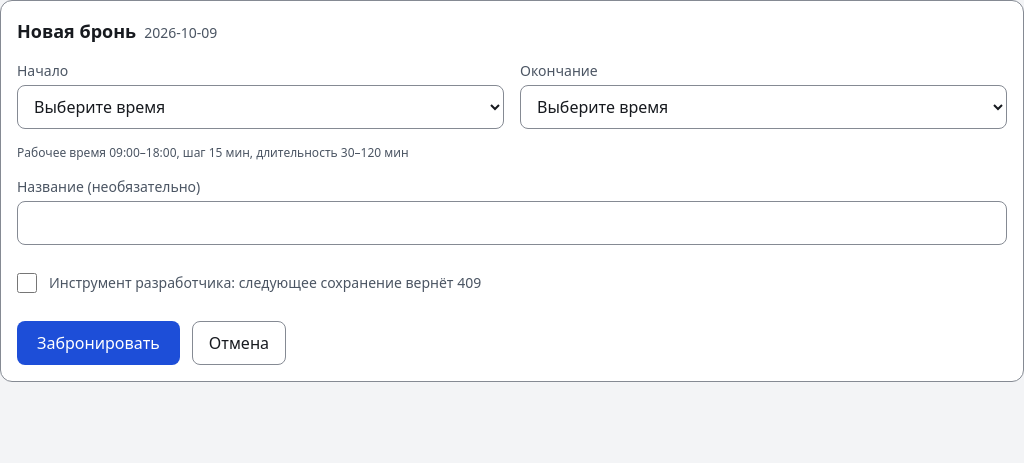
Test: BookingForm server errors › network error shows NETWORK banner and preserves input
The image size is (1024, 463).
Select "10:00" in the dropdown labelled "Начало" at coordinates (260, 107), box [17,85,504,129]
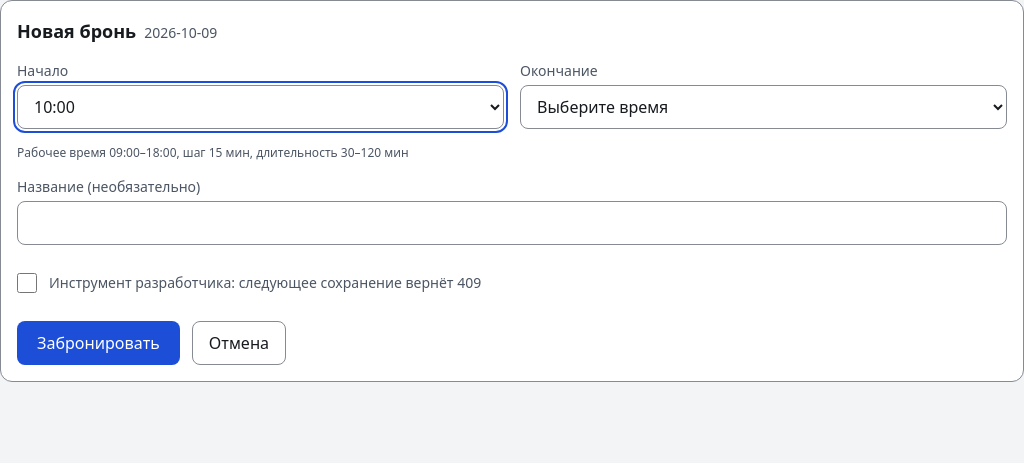
Select "11:00" in the dropdown labelled "Окончание" at coordinates (764, 107), box [520,85,1007,129]
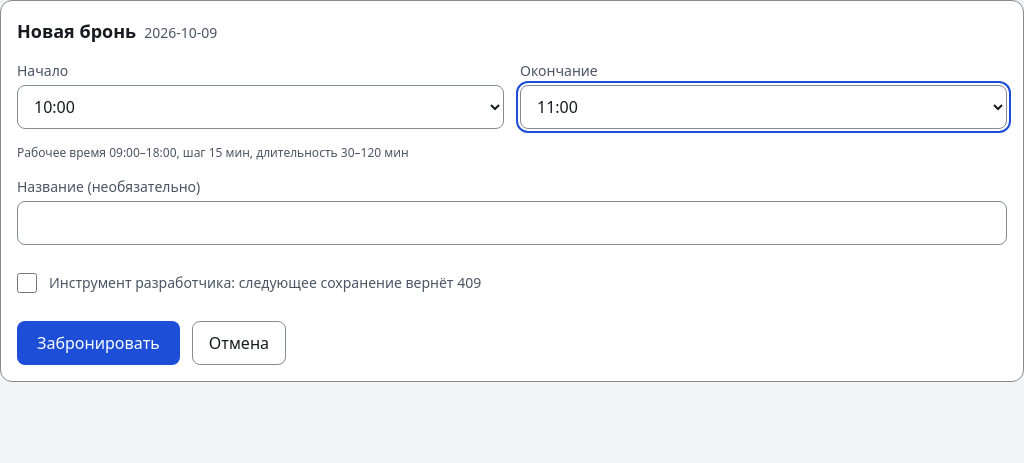
Type "Mine" into the field labelled "Название (необязательно)".
click(512, 223); type("Mine")  # box [17,201,1007,245]
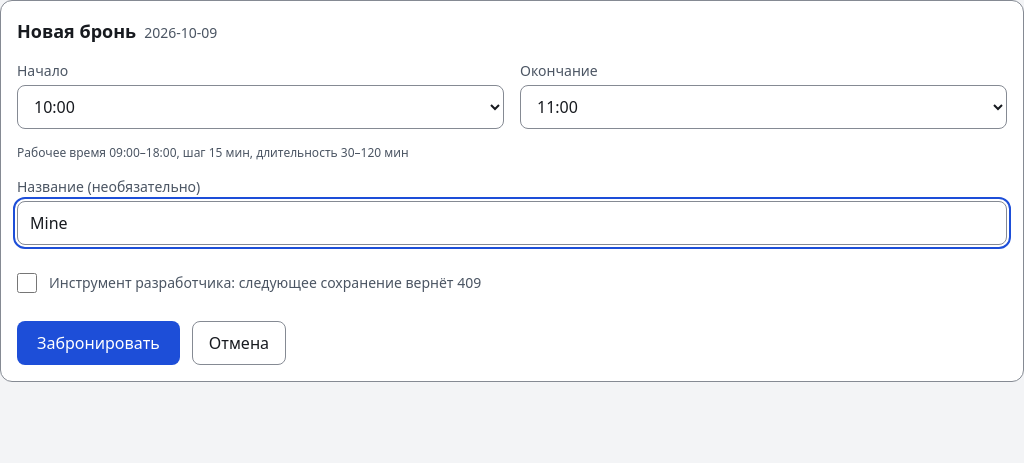
Click the button "Забронировать".
click(98, 343)  # box [17,321,180,365]
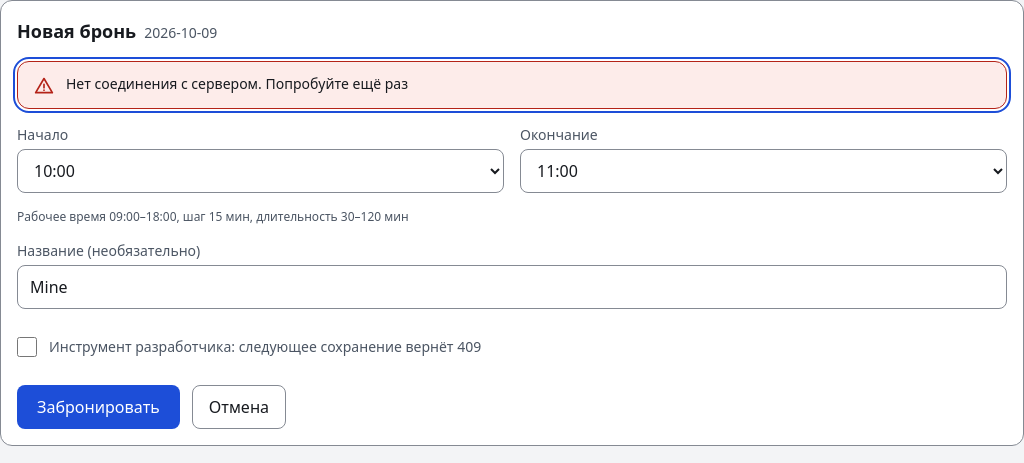
Check: the button "Забронировать" is enabled, box [17,385,180,429]
Check: the message reads "Нет соединения с сервером. Попробуйте ещё раз", box [66,74,408,93]
